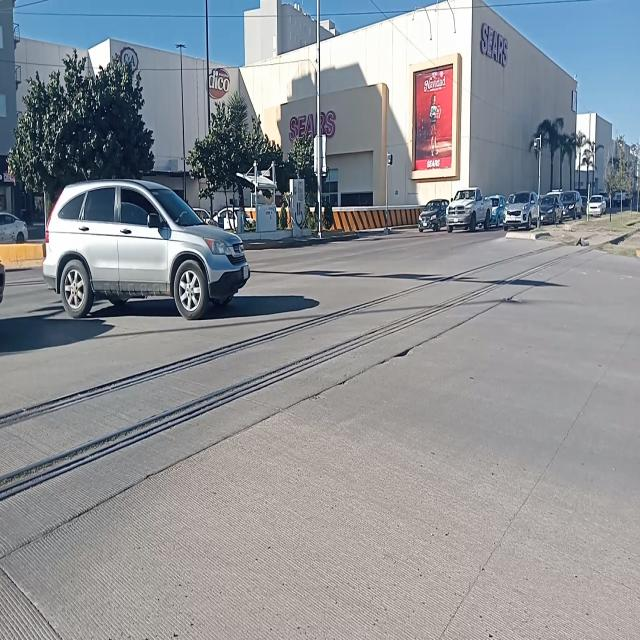Auto: (45, 172, 249, 319), (445, 184, 491, 235), (503, 188, 537, 228)
